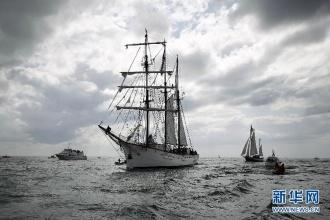fanchuan: (105, 35, 195, 169), (237, 125, 267, 165)
youlun: (53, 144, 90, 160)
